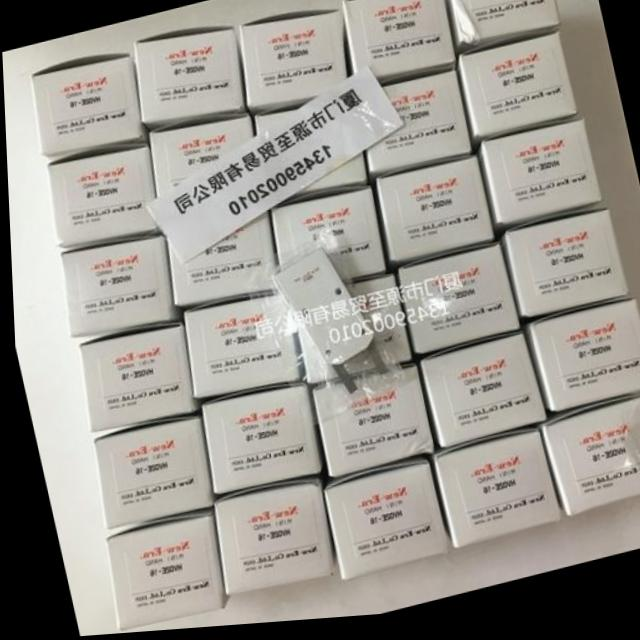box: (426, 437, 560, 554), (318, 465, 445, 586), (415, 338, 542, 456), (100, 514, 223, 634), (477, 124, 601, 240), (207, 482, 330, 598), (456, 39, 577, 156), (498, 215, 625, 325), (395, 249, 517, 363), (307, 368, 429, 482), (521, 307, 640, 422), (88, 419, 209, 531), (373, 161, 492, 273), (196, 389, 317, 498), (75, 325, 196, 432), (180, 297, 299, 405), (536, 405, 640, 528), (30, 54, 147, 161), (56, 239, 179, 339), (362, 72, 471, 183), (45, 145, 158, 248), (134, 29, 245, 130), (238, 13, 346, 116), (267, 190, 383, 284), (165, 216, 274, 311), (343, 0, 455, 89), (147, 121, 252, 202), (340, 277, 412, 383), (446, 0, 560, 60), (282, 156, 366, 206), (290, 320, 335, 392), (254, 112, 295, 138)
